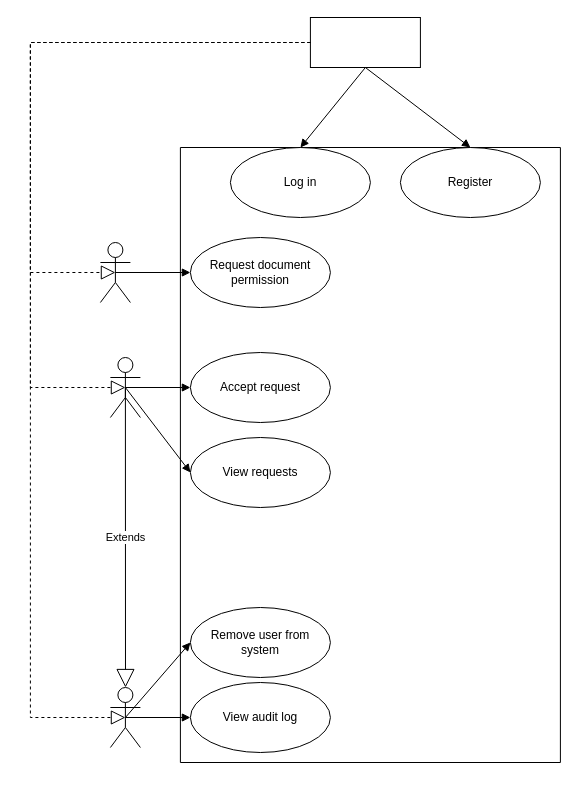
This 578x786 diagram has some shape labels left out. Each missing label, with the centre of its shape:
"Admin" belongs at point 124,717.
"Approver" belongs at point 124,387.
"User" belongs at point 114,272.
"«interface» Everyone" belongs at point 364,42.
